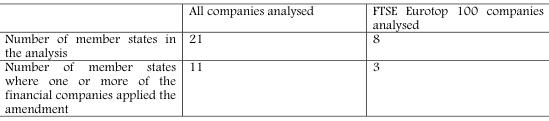table: (4, 4, 542, 114)
table column: (342, 4, 542, 114), (4, 4, 181, 114), (181, 4, 342, 114)
table column header: (4, 4, 542, 31)
table row: (4, 59, 542, 114), (4, 31, 542, 59), (4, 4, 542, 31)
